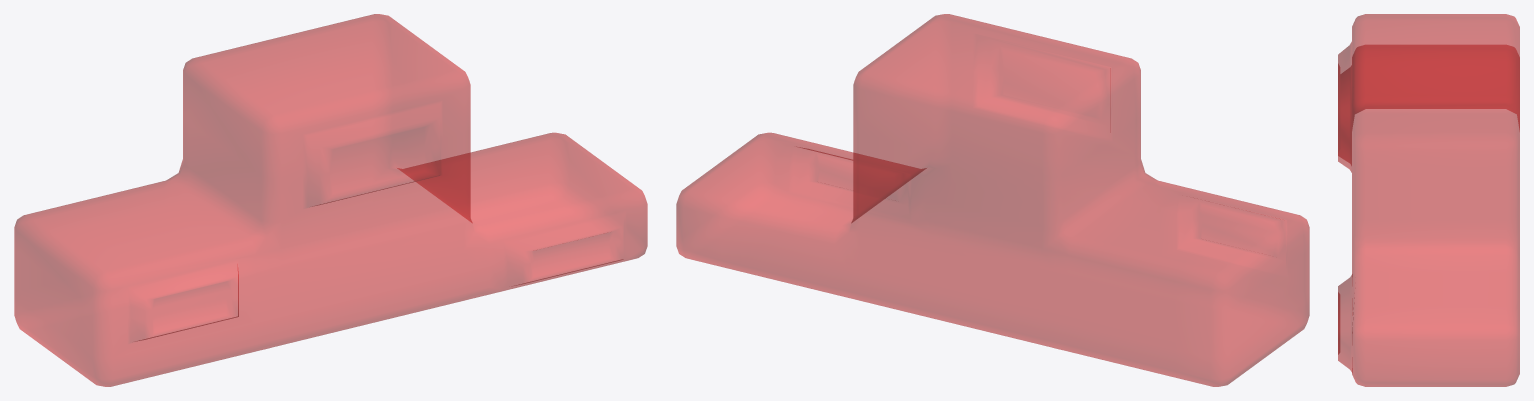
Rendered from PlayerRacePodiumPrefab.fbx.
3 renders of one model, left to right at view 1: azimuth 30°, elevation 25°; view 2: azimuth 150°, elevation 25°; view 3: azimuth 270°, elevation 25°, orthographic. The views are drawn at different scales.
Visible parts, largest first — view 1: Podium; view 2: Podium; view 3: Podium.
Part boxes in pixels (left/top/right/bottom): Podium: left=14, top=14, right=647, bottom=386; Podium: left=676, top=14, right=1309, bottom=386; Podium: left=1338, top=14, right=1519, bottom=386.
Bounding box in the file's own units: 501 × 200 × 156.
